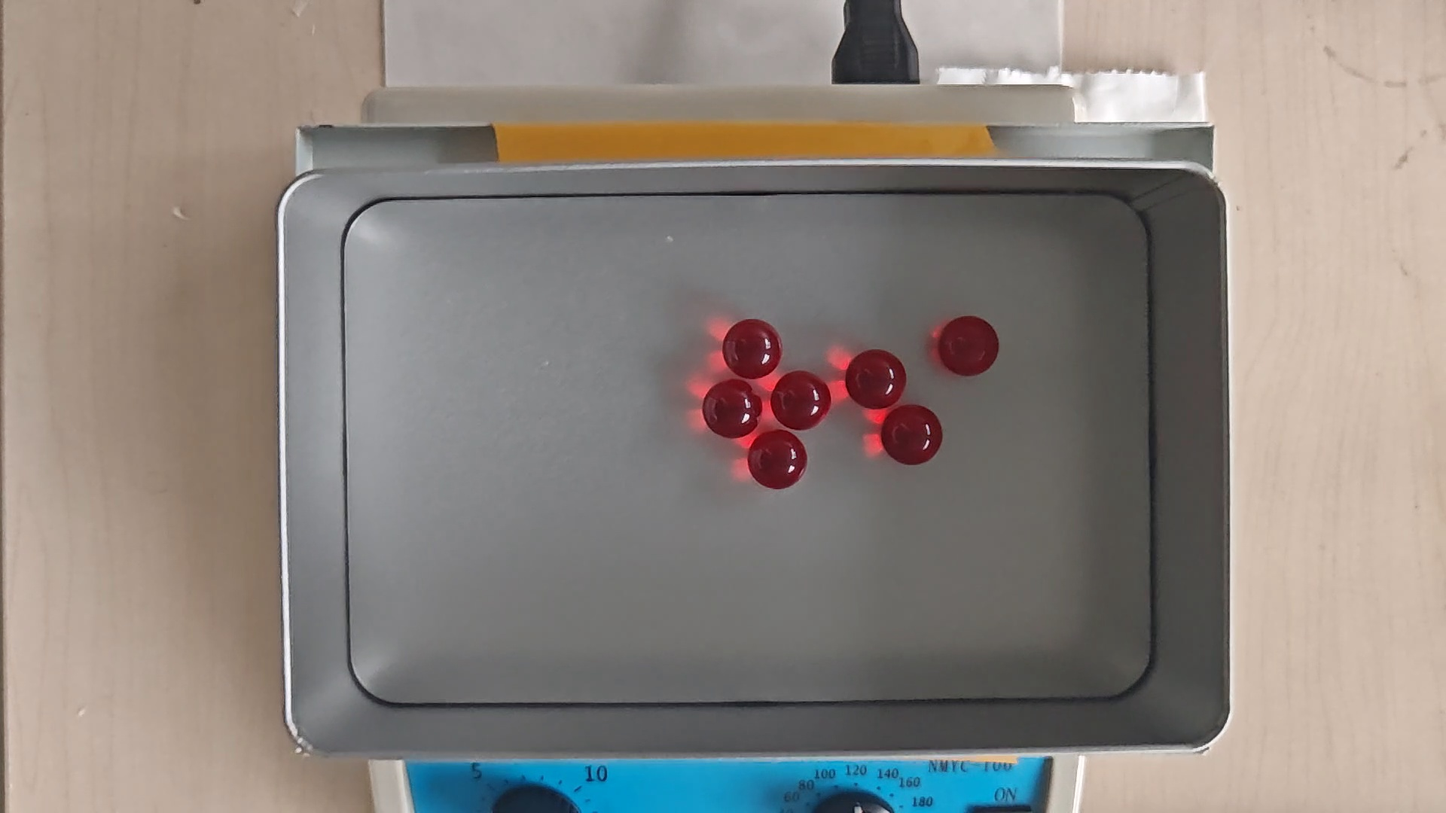ball: (721, 319, 781, 380), (846, 349, 905, 410), (772, 371, 830, 430), (703, 380, 761, 438), (883, 404, 941, 462), (939, 316, 996, 374), (752, 431, 808, 490)
container: (342, 195, 1150, 705)
